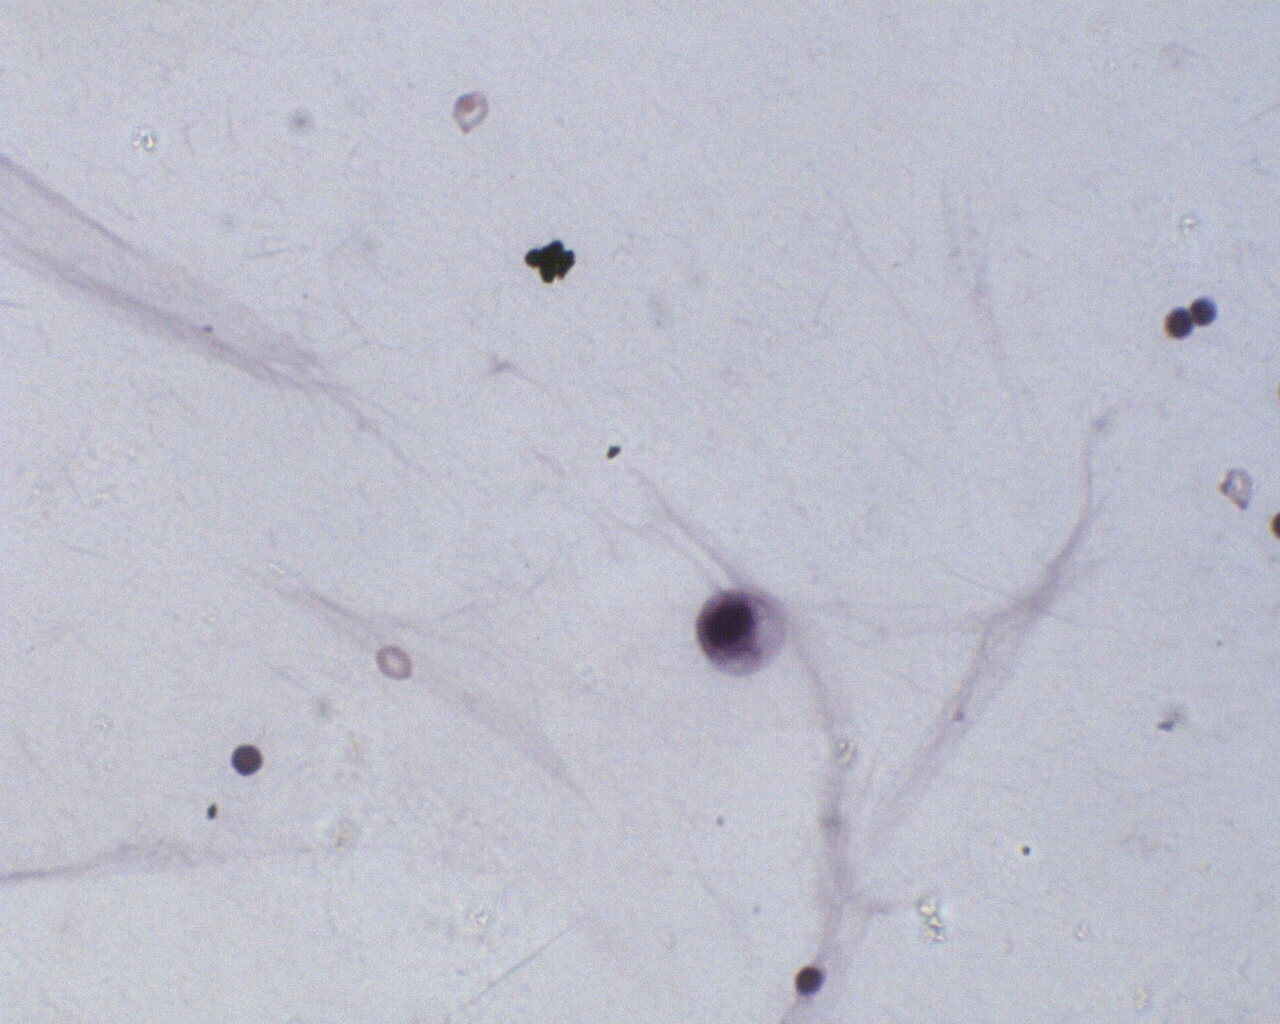histo: (696, 586, 794, 684)
lymph: (226, 737, 267, 783), (792, 961, 829, 1000), (1165, 303, 1197, 340)
